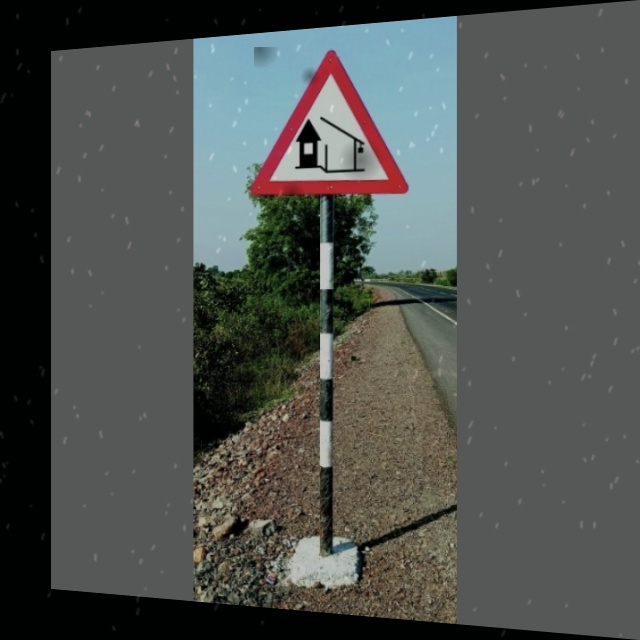Barrier_Ahead: (254, 47, 407, 196)
